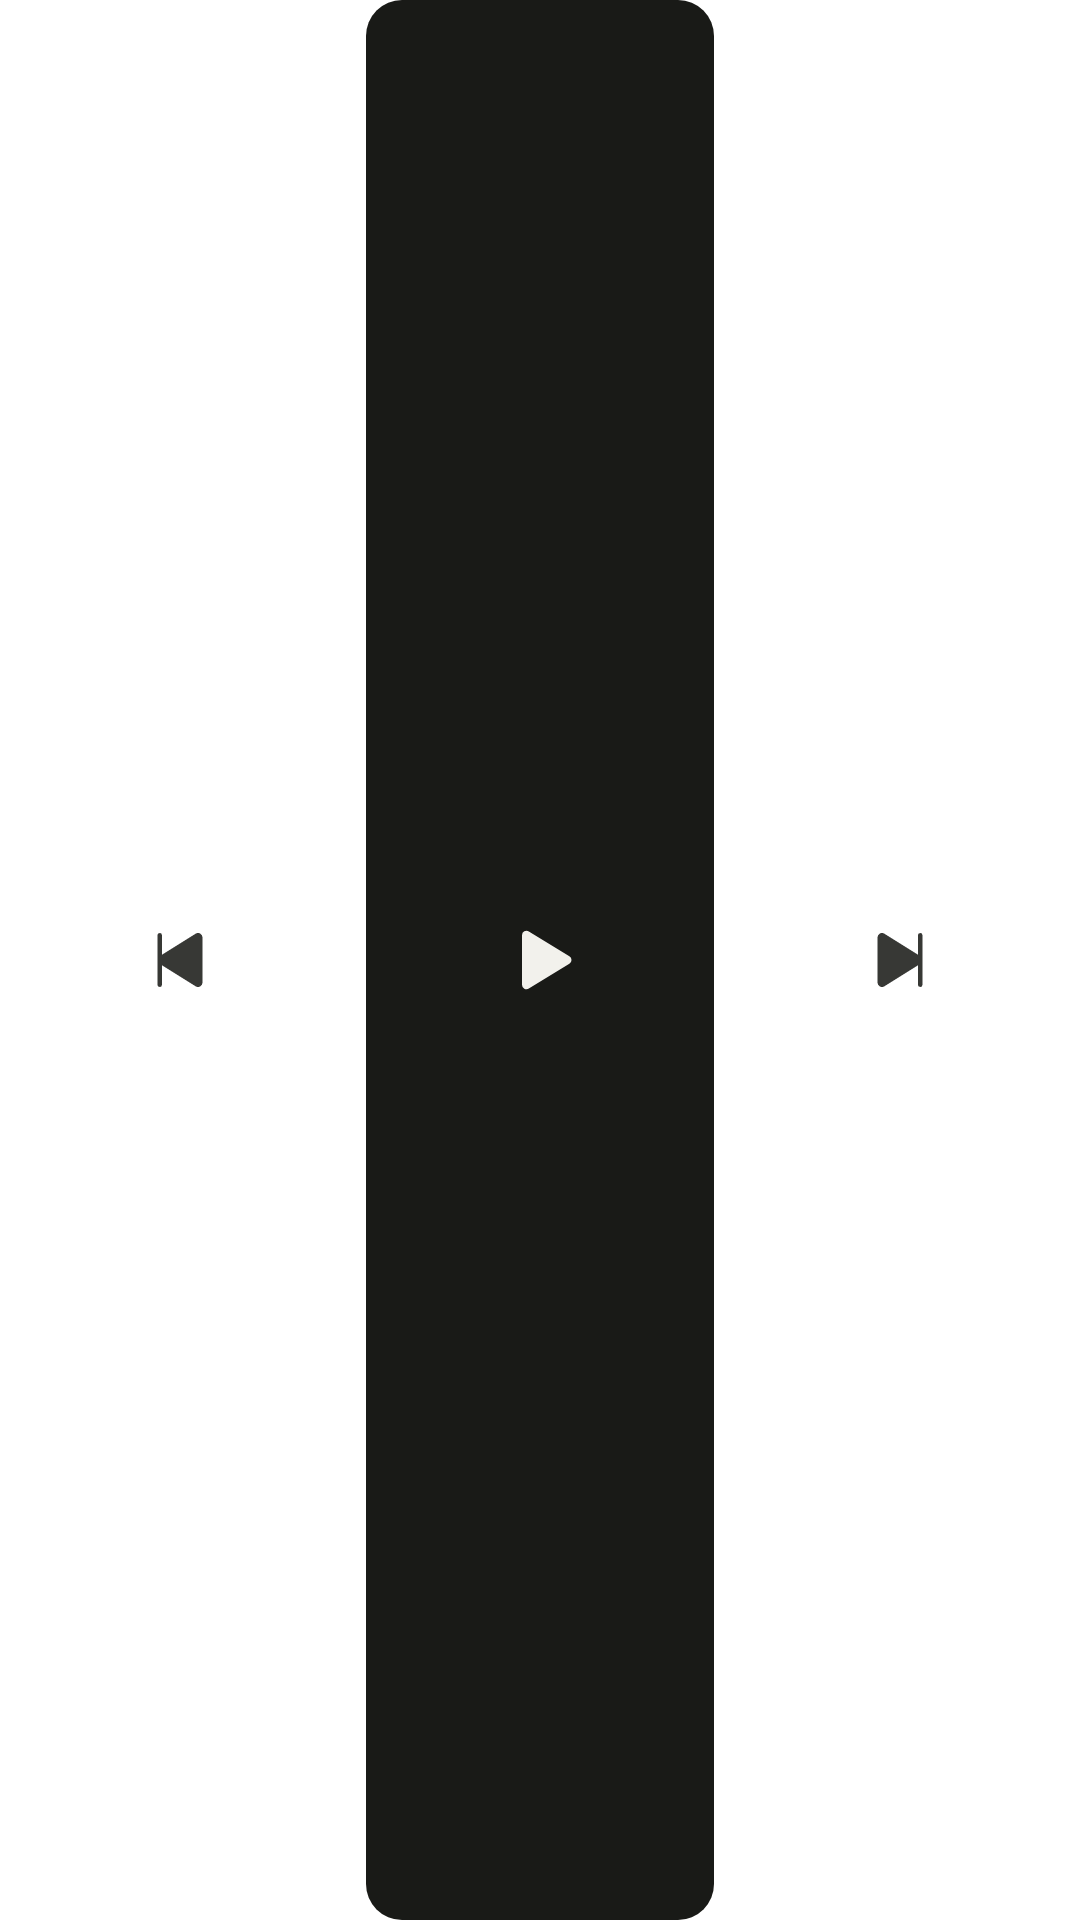

Icon click points for this 1080px x 1920px phone screenshot, format (x=x, y=y):
play: (x=547, y=960)
skip next: (x=900, y=960)
skip previous: (x=180, y=960)
